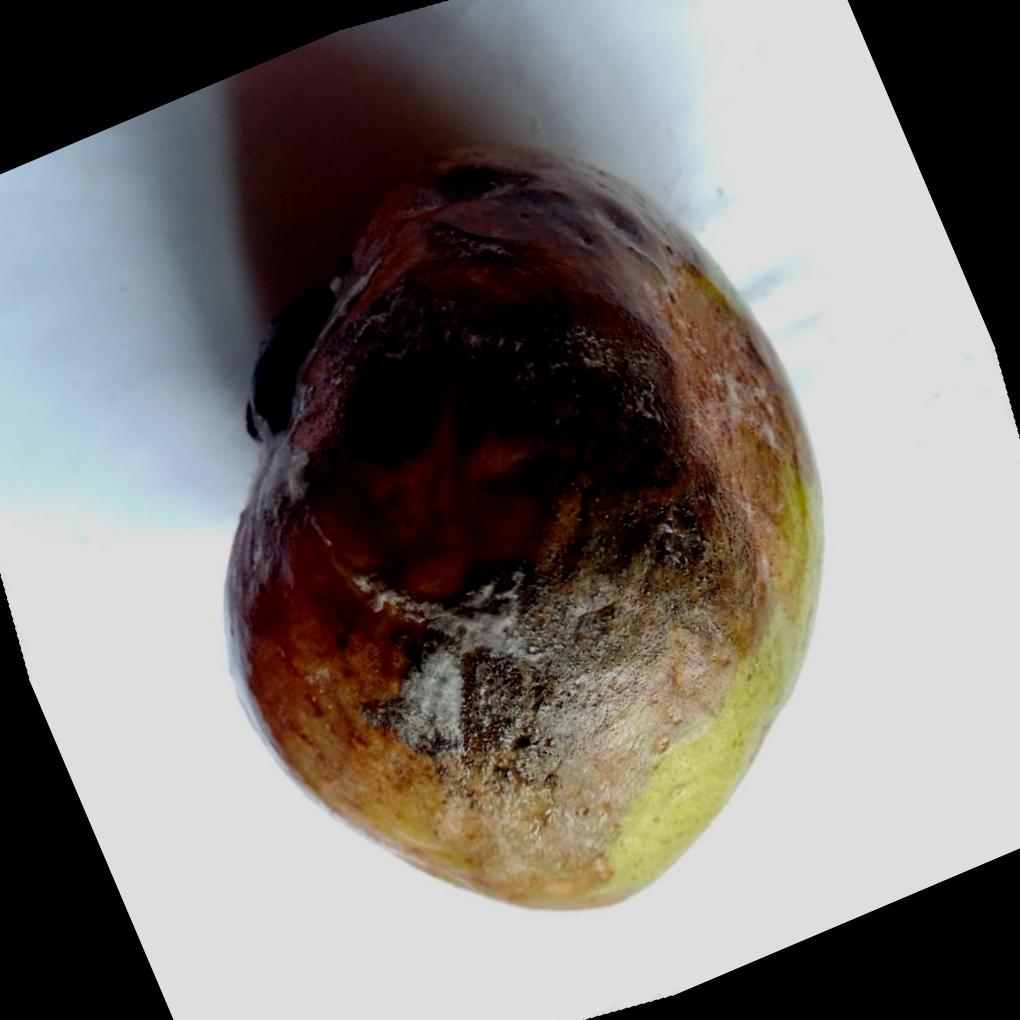FreshOrange: (220, 136, 823, 911)
